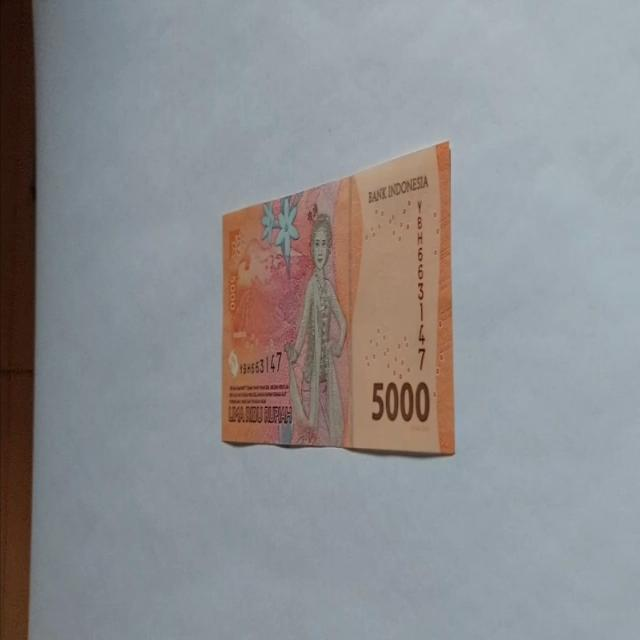lima ribu rupiah: (220, 138, 456, 456), (282, 213, 348, 447)
